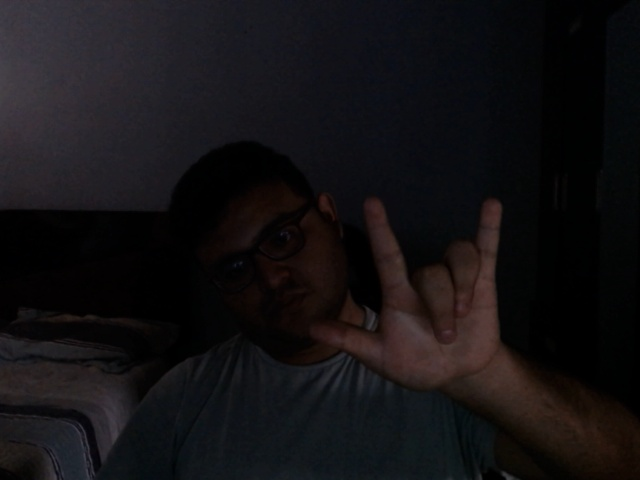I love you: (303, 191, 523, 405)
